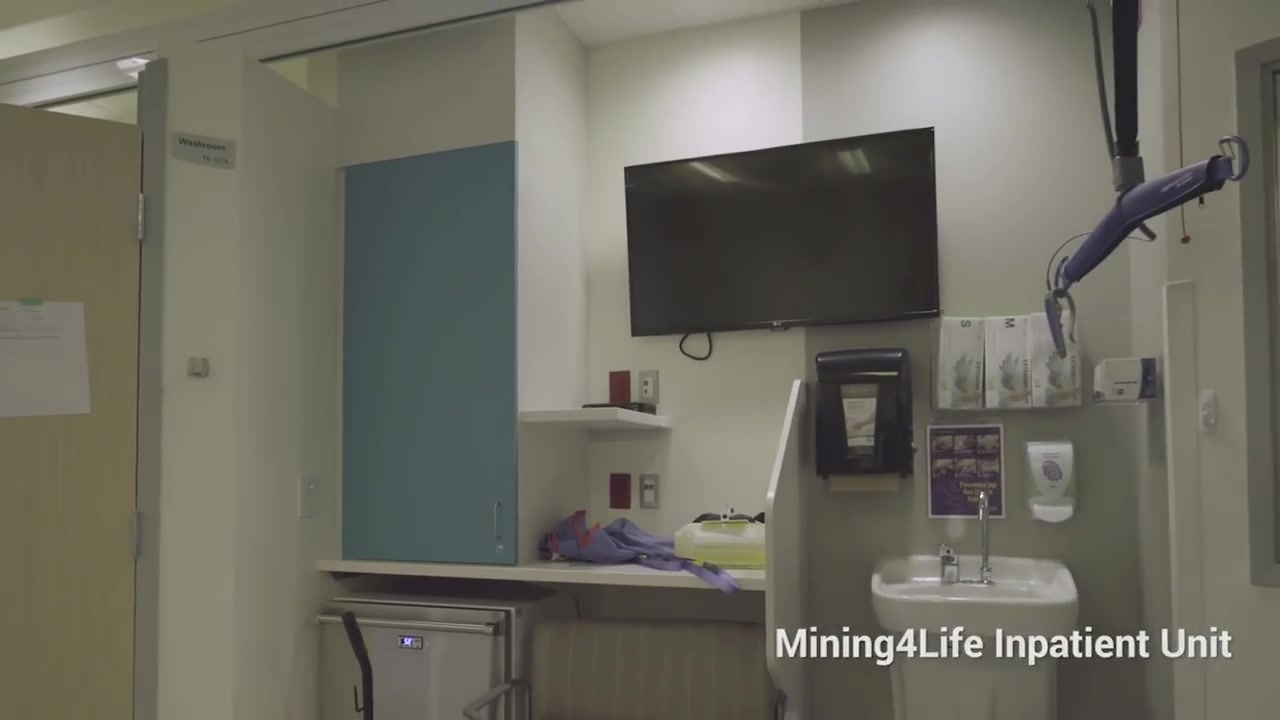TV: (622, 125, 942, 336)
countertop: (314, 550, 764, 591)
dispenser: (936, 312, 1084, 413), (815, 348, 916, 492), (1023, 440, 1078, 523)
door_handle: (489, 498, 504, 541)
faucet: (976, 490, 994, 584), (937, 543, 960, 584)
handle: (315, 610, 497, 637)
light_switch: (296, 474, 319, 519)
sink: (870, 553, 1080, 645)
